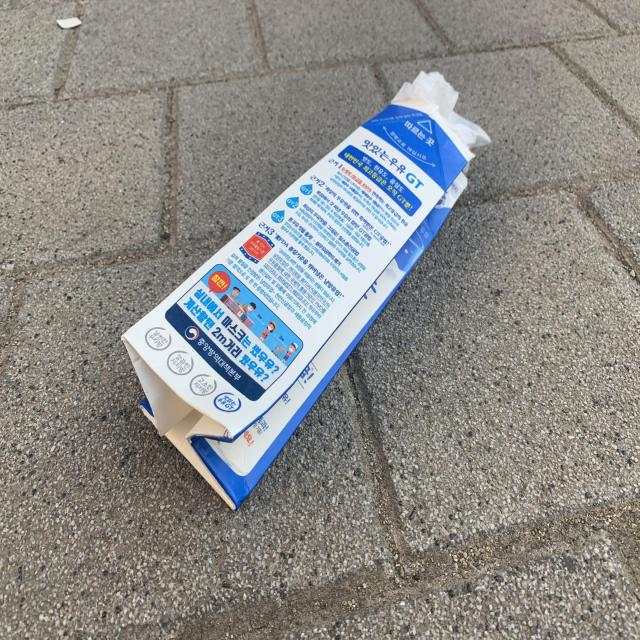paperpack: (121, 72, 490, 510)
